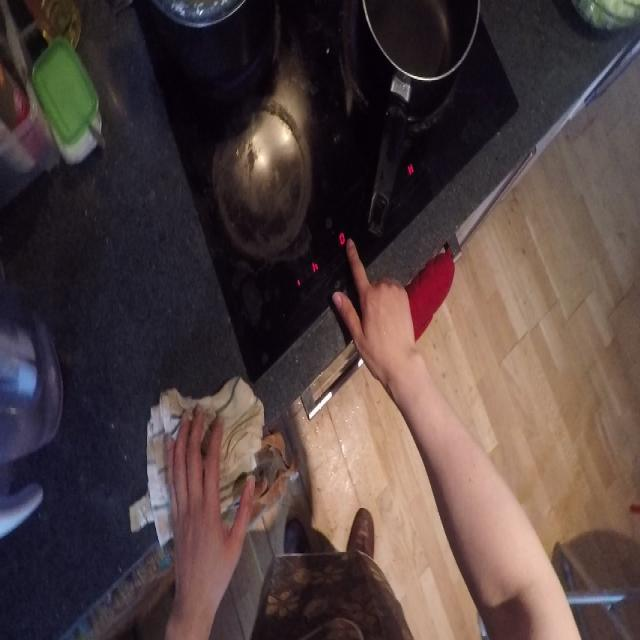container: (29, 34, 107, 166)
left hand: (163, 398, 259, 610)
pan: (352, 0, 481, 223)
right hand: (334, 225, 424, 402)
water filter: (0, 284, 58, 538)
